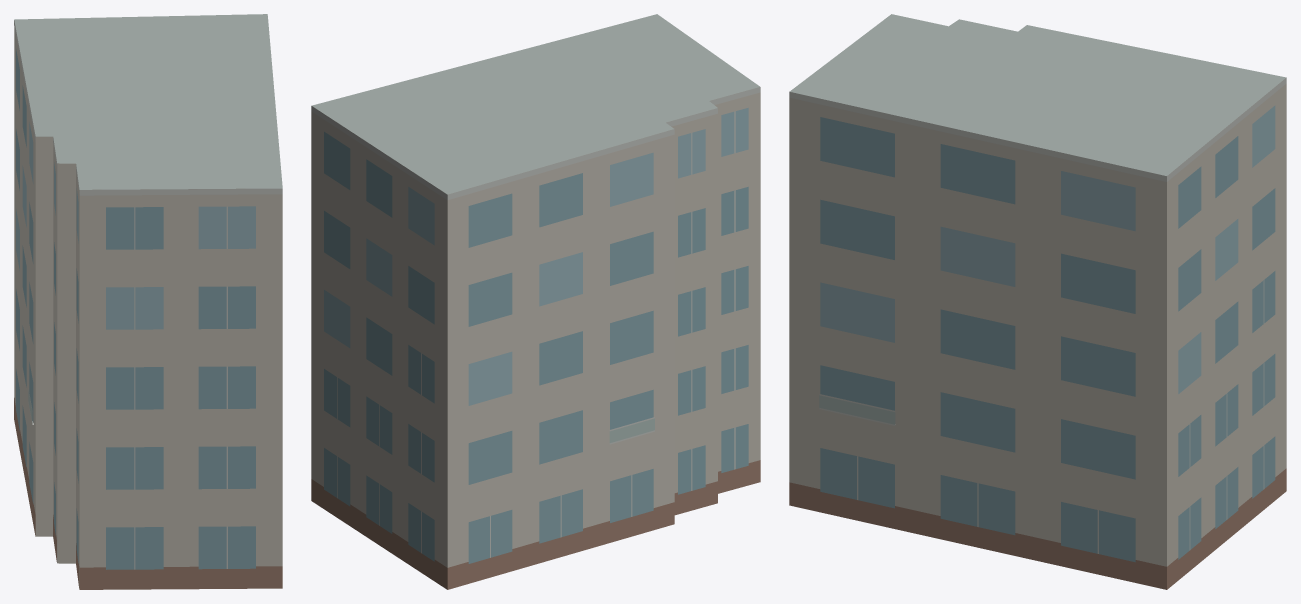
The model's file is survey-upis-32783077.glb.
The picture shows the model from 3 angles, left to right: view 1: azimuth 30°, elevation 25°; view 2: azimuth 150°, elevation 25°; view 3: azimuth 270°, elevation 25°; orthographic projection. The views are drawn at different scales.
Parts seen in each view (by area): view 1: survey-upis-32783077.tmp; view 2: survey-upis-32783077.tmp; view 3: survey-upis-32783077.tmp.
Boxes of the visible parts, x1,y1,x2,y2 form: survey-upis-32783077.tmp: (14,14,282,589); survey-upis-32783077.tmp: (311,14,760,589); survey-upis-32783077.tmp: (789,14,1286,589).
Size of the model in its own units: 14.39 by 17.1 by 18.63.
